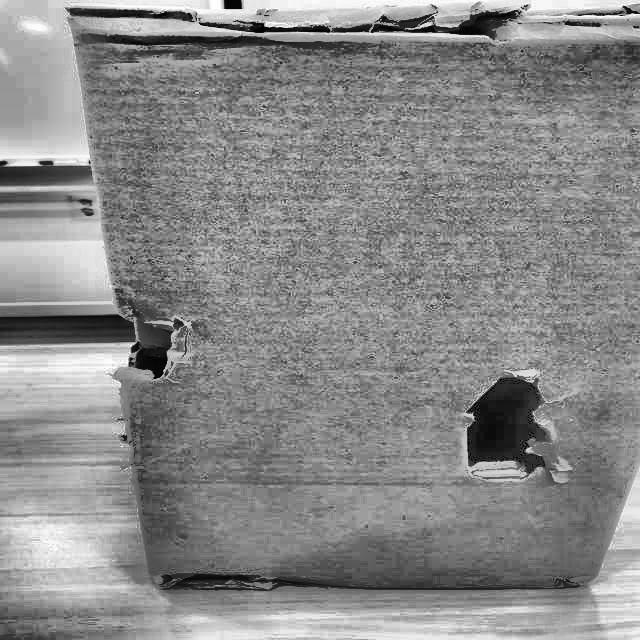box: (59, 0, 639, 602)
hole: (461, 371, 579, 479), (247, 12, 523, 48), (117, 318, 201, 390), (173, 564, 323, 592)
